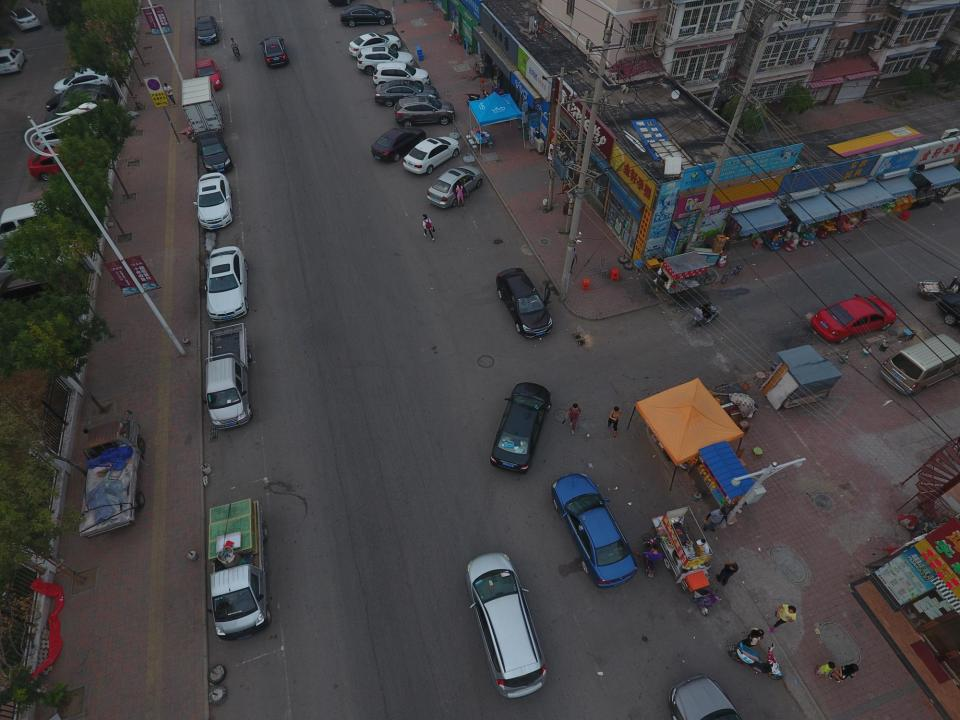car: (466, 552, 544, 702), (550, 473, 638, 587), (491, 382, 551, 474), (811, 293, 897, 345), (495, 268, 552, 337), (204, 247, 249, 322), (28, 146, 96, 181), (44, 91, 108, 128), (193, 172, 234, 229), (427, 166, 482, 208), (35, 121, 101, 156), (0, 248, 63, 284), (404, 136, 460, 176), (46, 84, 115, 115), (394, 95, 456, 126), (371, 127, 426, 161), (375, 79, 439, 108), (195, 130, 233, 174), (373, 61, 430, 90), (358, 46, 414, 75), (54, 68, 110, 96), (349, 33, 401, 58), (340, 5, 391, 27), (260, 36, 289, 69), (194, 59, 222, 91), (8, 6, 42, 31), (194, 16, 219, 45), (0, 48, 27, 74)
truck: (206, 496, 272, 641), (78, 410, 147, 537), (205, 322, 253, 428), (181, 75, 223, 133)
van: (880, 332, 960, 397), (0, 199, 67, 245), (0, 270, 55, 311)
